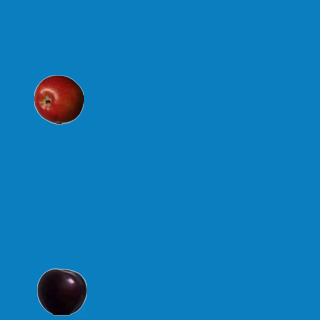Apple Braeburn: (33, 74, 83, 124)
Cherry Wax Black: (36, 266, 86, 316)
